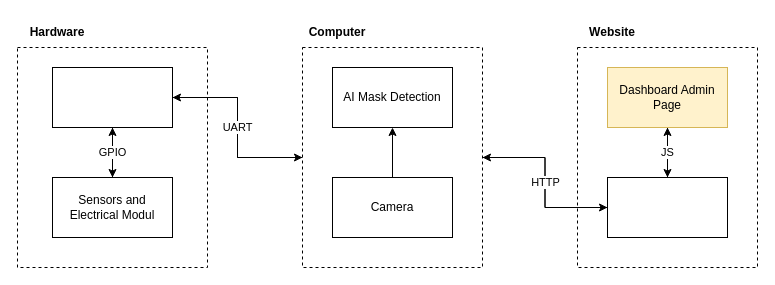
Image size: 775x285. Some labels were removed from this diagram. The shapes that lost their labels are listed below. From the top down, each one's box as (x1, y1, x2, y2) in pixels, then its label:
(52, 66, 172, 128): Controller
(606, 176, 728, 238): Firebase
